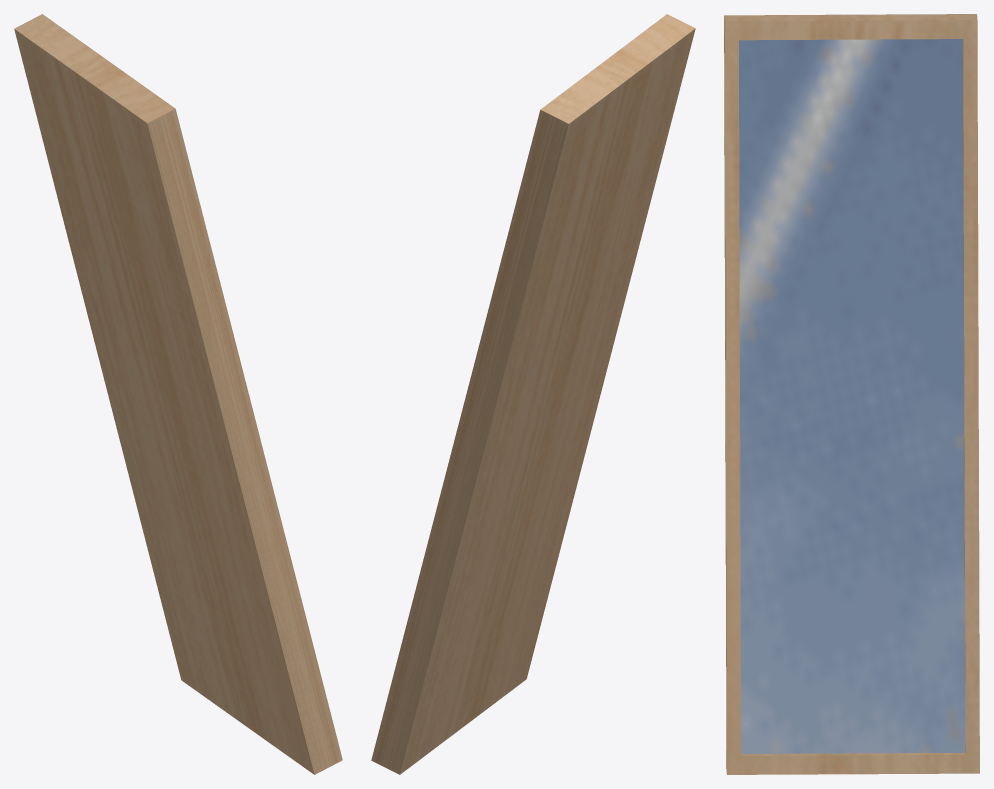
The model's file is Bathroom_Mirror.fbx.
The picture shows the model from 3 angles, left to right: view 1: azimuth 30°, elevation 25°; view 2: azimuth 150°, elevation 25°; view 3: azimuth 270°, elevation 25°; orthographic projection. The views are drawn at different scales.
Parts seen in each view (by area): view 1: Cylinder.004; view 2: Cylinder.004; view 3: Cylinder.004.
Part boxes in pixels (x1,y1,x2,y2): Cylinder.004: (14, 14, 342, 774); Cylinder.004: (371, 14, 695, 774); Cylinder.004: (724, 14, 979, 774).
Size of the model in its own units: 53.52 by 179 by 61.11.
